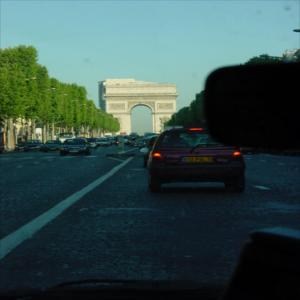Vehicle-registration-plate: (182, 158, 215, 164), (68, 151, 81, 154)
